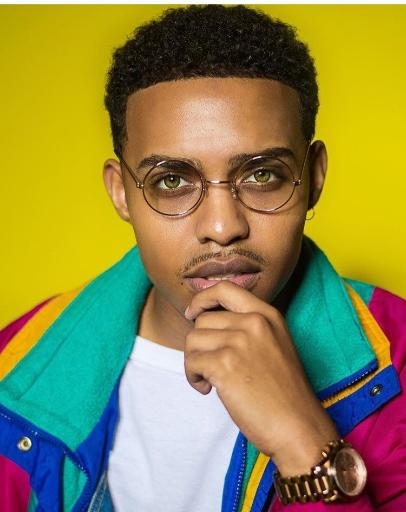left_eye: (241, 168, 290, 189)
left_lip_corner: (253, 266, 265, 279)
right_eye: (150, 174, 196, 196)
right_lip_corner: (184, 272, 197, 285)
